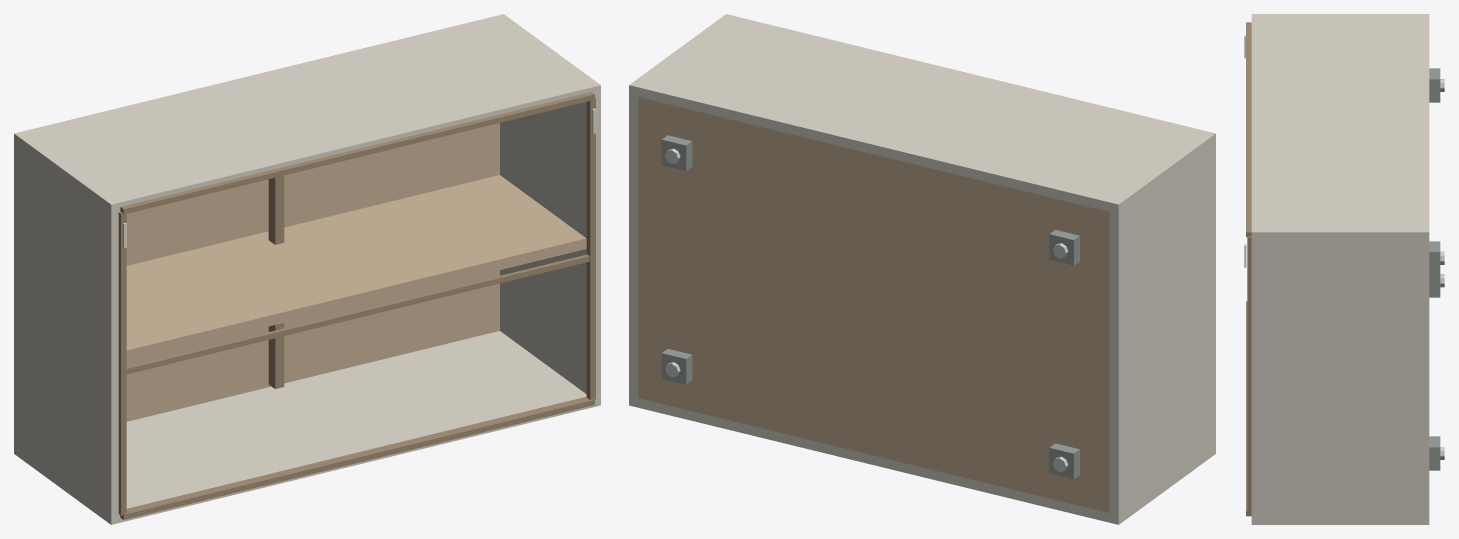
The model's file is wall_cabinet_body.glb.
The picture shows the model from 3 angles, left to right: view 1: azimuth 30°, elevation 25°; view 2: azimuth 150°, elevation 25°; view 3: azimuth 270°, elevation 25°; orthographic projection. The views are drawn at different scales.
Visible parts, largest first — view 1: wallCupboardBody; view 2: wallCupboardBody; view 3: wallCupboardBody.
Part boxes in pixels (<box>): wallCupboardBody: <box>14,14,600,524</box>; wallCupboardBody: <box>629,14,1215,524</box>; wallCupboardBody: <box>1244,14,1444,524</box>.
Size of the model in its own units: 0.96 by 0.6 by 0.3725.
